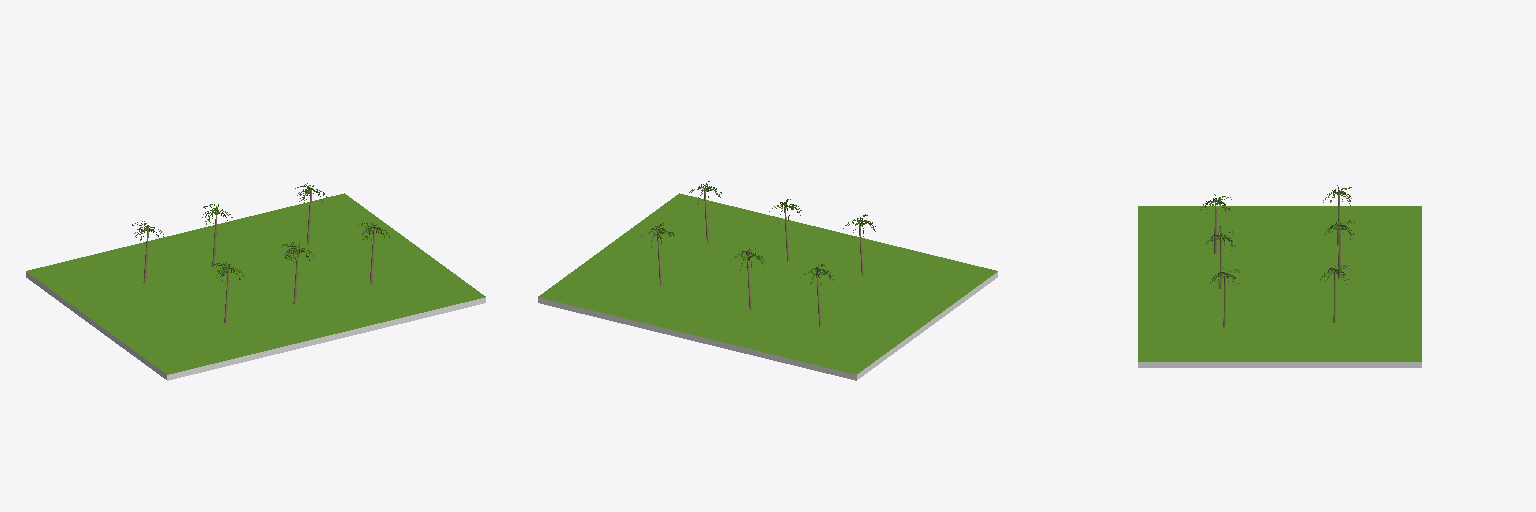
File: palms.obj
3 views of the same model, side by side, from view 1: azimuth 30°, elevation 25°; view 2: azimuth 150°, elevation 25°; view 3: azimuth 270°, elevation 25° (orthographic).
Parts seen in each view (by area): view 1: Mesh1903 Model; view 2: Mesh1903 Model; view 3: Mesh1903 Model.
Part boxes in pixels (x1,y1,x2,y2): Mesh1903 Model: (26,193,485,380); Mesh1903 Model: (538,193,997,380); Mesh1903 Model: (1138,206,1421,367).
Size of the model in its own units: 1598 by 326 by 1231.